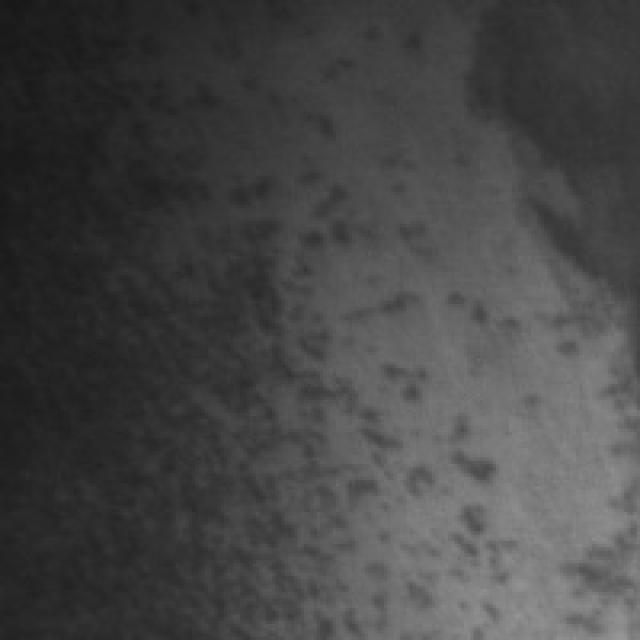pitted_surface: (106, 103, 588, 612)
